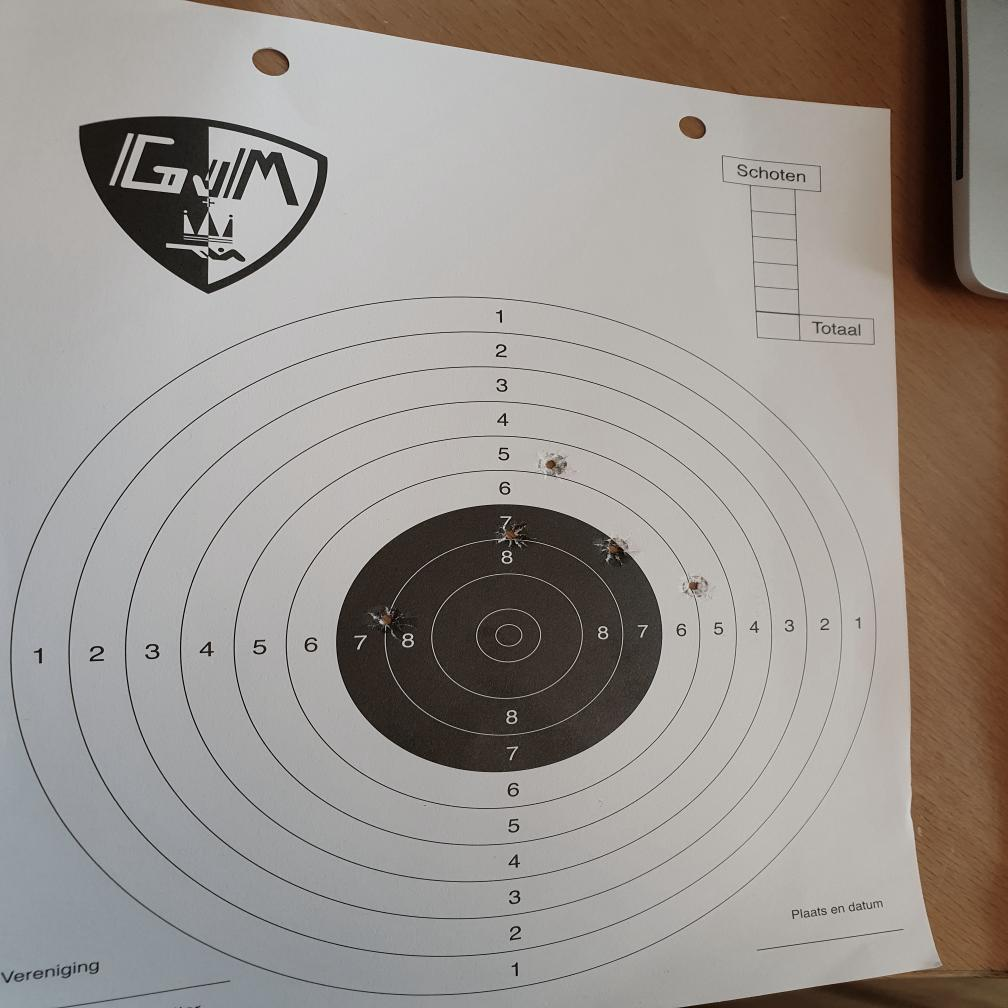6: (532, 450, 578, 482), (678, 571, 716, 603)
7: (595, 536, 637, 566)
8: (369, 602, 416, 636), (489, 518, 534, 550)
Target: (11, 292, 876, 997)
black_contour: (337, 504, 663, 774)
